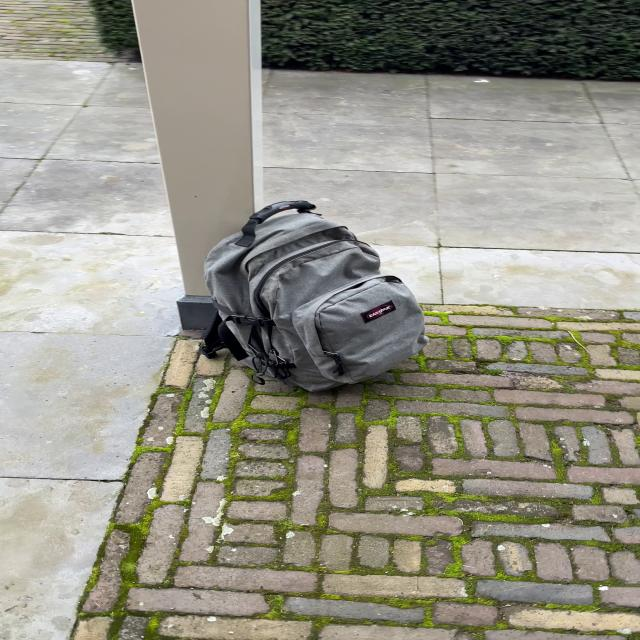backpack: (192, 195, 436, 400)
